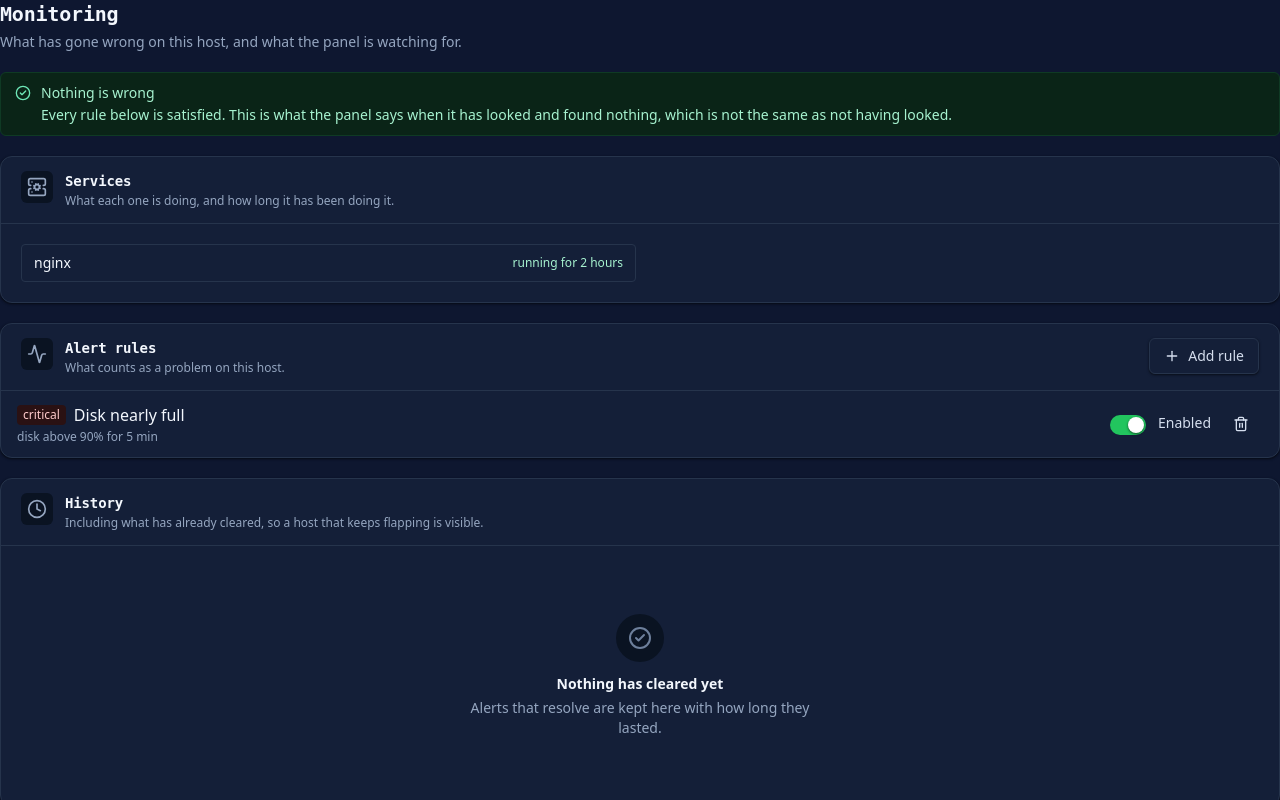
Test: MonitoringPage › will not let an existing rule be pointed at something else
Click the text "Disk nearly full" at (129, 415), box x1=74 y1=403 x2=185 y2=427
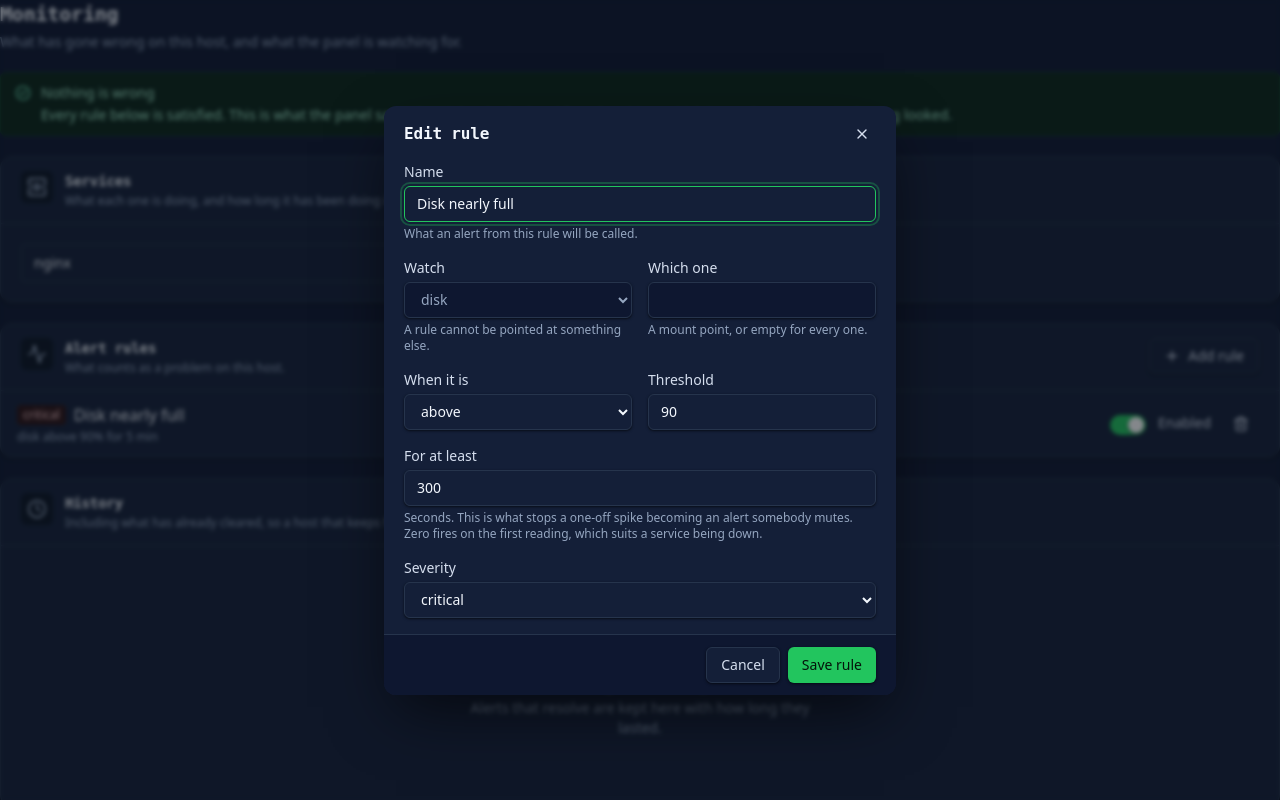
Result: the dropdown labelled "Watch" is disabled at x1=404 y1=282 x2=632 y2=318
Result: the field labelled "Which one" is disabled at x1=648 y1=282 x2=876 y2=318
Result: the text "A rule cannot be pointed at something else." is shown at x1=404 y1=322 x2=632 y2=354
